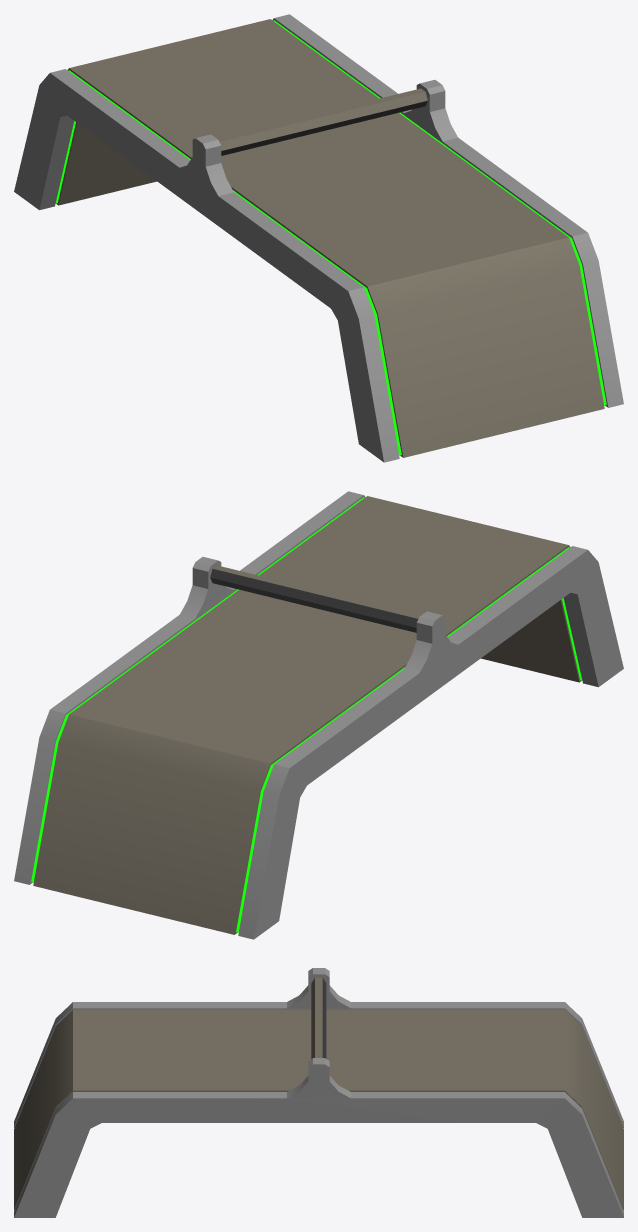
File: Chair_03.FBX
3 views of the same model, one above another, from view 1: azimuth 30°, elevation 25°; view 2: azimuth 150°, elevation 25°; view 3: azimuth 270°, elevation 25° (orthographic). The views are drawn at different scales.
Visible parts, largest first — view 1: Chair_03_LOD0; view 2: Chair_03_LOD0; view 3: Chair_03_LOD0.
Boxes of the visible parts, box(x1,y1,x2,y2) form: Chair_03_LOD0: box(14, 14, 623, 462); Chair_03_LOD0: box(14, 491, 623, 939); Chair_03_LOD0: box(14, 968, 623, 1217).
Size of what is drawn, in the model's own units: 32.18 by 23.89 by 86.
